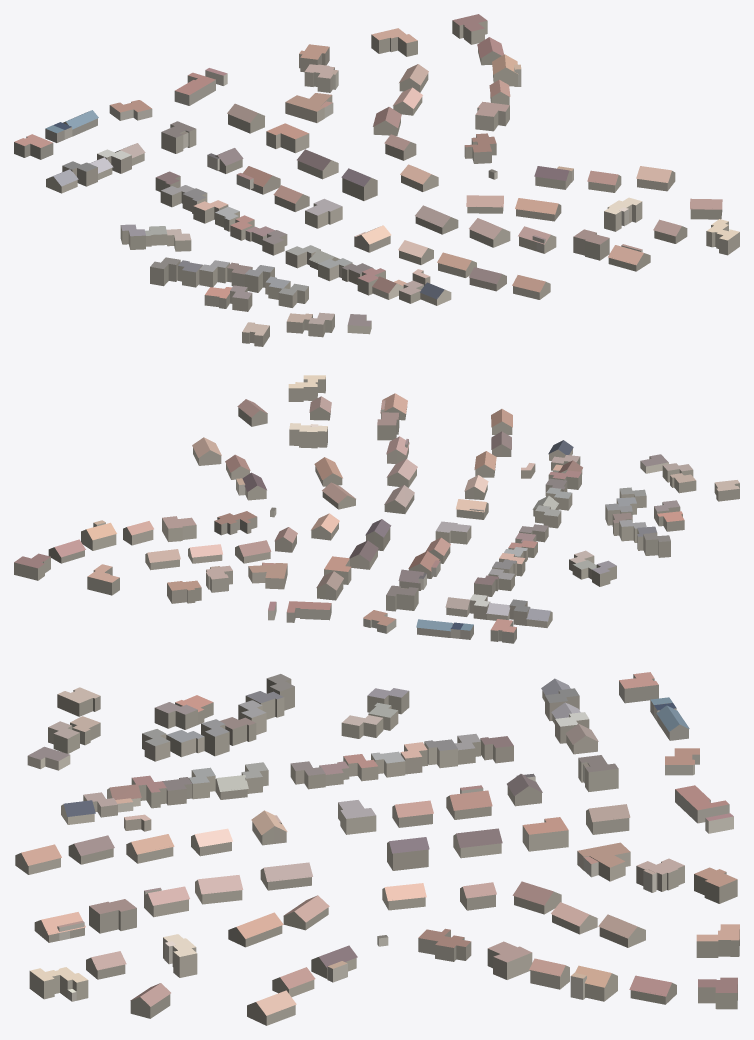
The picture shows the model from 3 angles, top to bottom: view 1: azimuth 30°, elevation 25°; view 2: azimuth 150°, elevation 25°; view 3: azimuth 270°, elevation 25°; orthographic projection. The views are drawn at different scales.
Parts seen in each view (by area): view 1: tuile; view 2: tuile; view 3: tuile.
Part boxes in pixels (bbox=[...]): tuile: bbox=[14, 14, 739, 346]; tuile: bbox=[14, 375, 739, 643]; tuile: bbox=[15, 672, 739, 1025].
Size of the model in its own units: 265 by 23.23 by 264.
